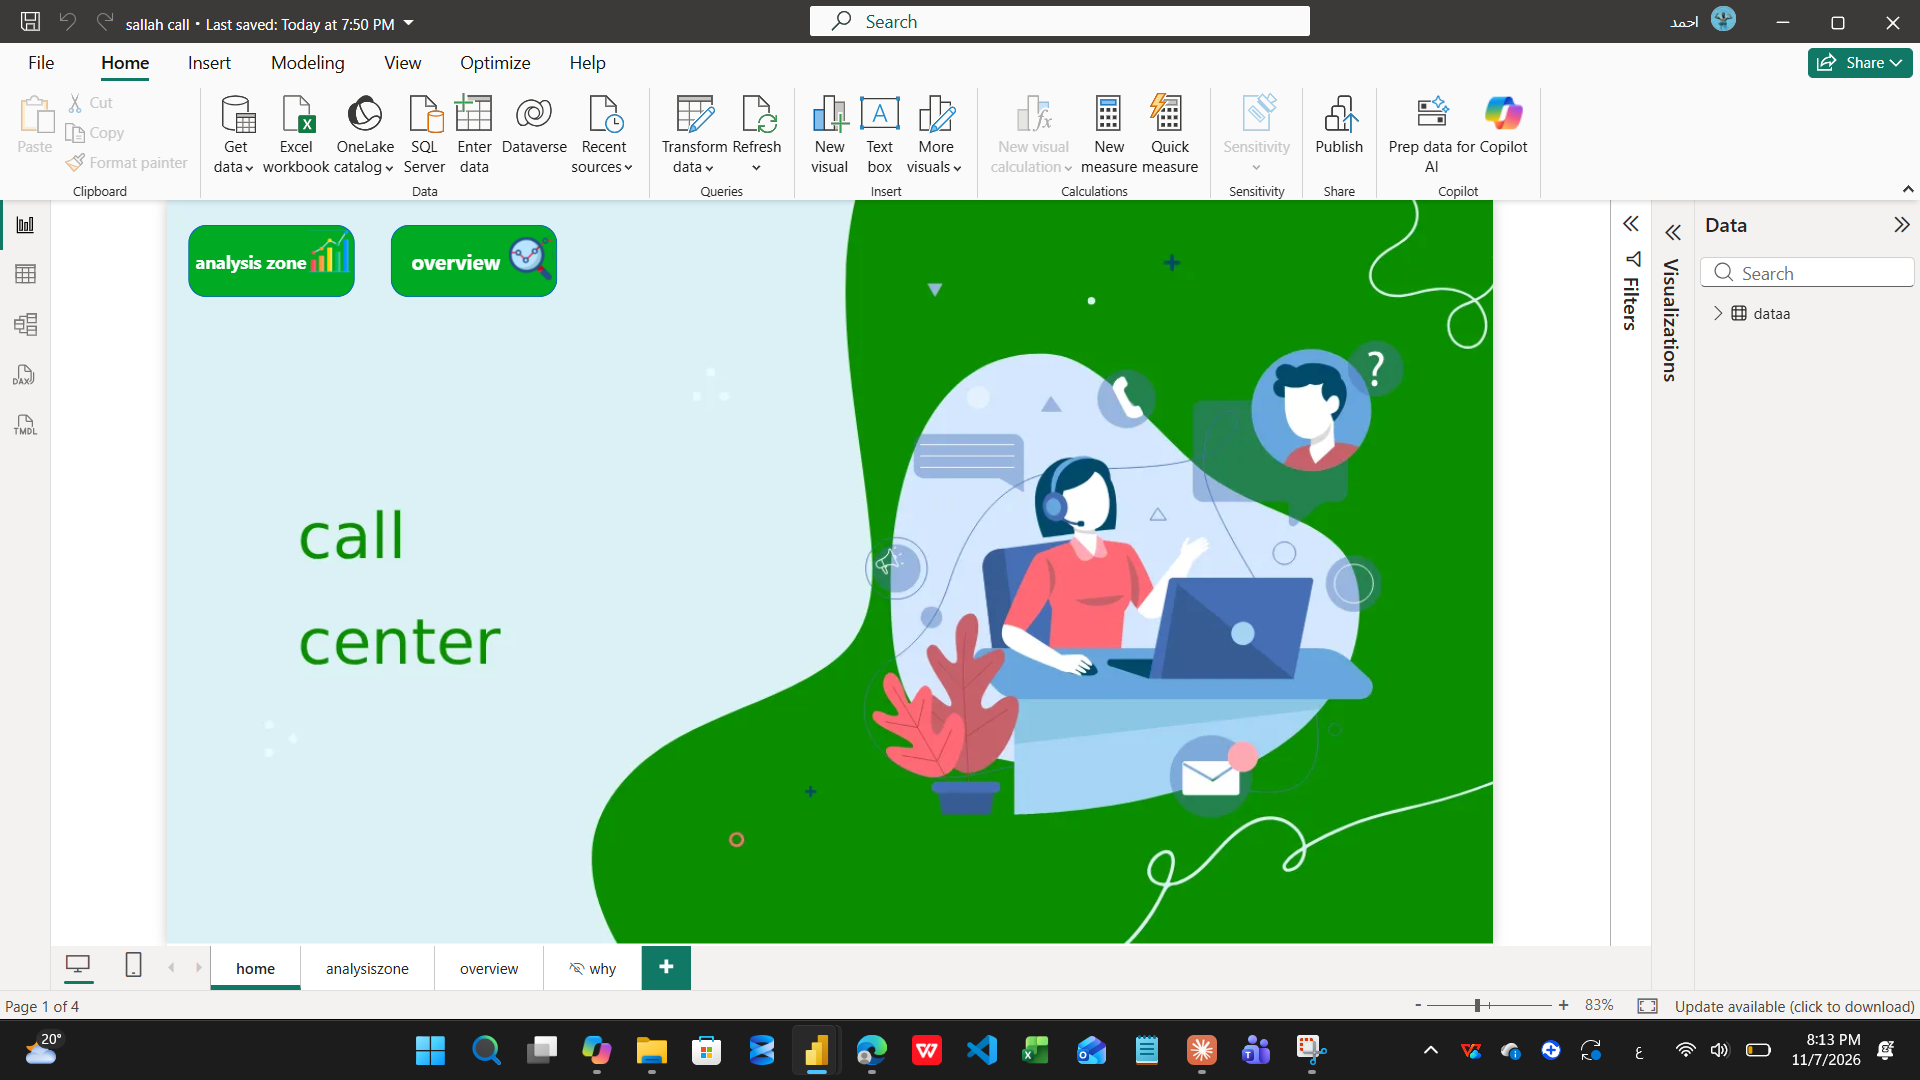

The dashboard page shown, as its layout file describes it:
{"tool":"powerbi","page":{"name":"home","canvas":[1280,720],"ordinal":0},"visuals":[{"type":"shape","box":[20.2,23.6,160.7,69.7],"z":0},{"type":"actionButton","box":[20.4,31,121.2,56.6],"z":1000},{"type":"shape","box":[215.7,23.6,160.7,69.7],"z":2000},{"type":"actionButton","box":[207.1,23.9,142.5,69.9],"z":3000},{"type":"actionButton","box":[132.7,18.6,48.7,62.8],"z":4000},{"type":"actionButton","box":[325.7,31,51.3,50.4],"z":5000}]}

Visuals, with their boxes on the page's 1280x720 design canvas (x1, y1, x2, y2). These are canvas units, not pixel positions in the 1920x1080 screenshot, which may show the page scaled, cropped or inside an application window:
shape: (left=20, top=24, right=181, bottom=93)
actionButton: (left=20, top=31, right=142, bottom=88)
shape: (left=216, top=24, right=376, bottom=93)
actionButton: (left=207, top=24, right=350, bottom=94)
actionButton: (left=133, top=19, right=181, bottom=81)
actionButton: (left=326, top=31, right=377, bottom=81)
